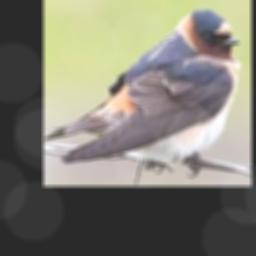Swallow: (44, 9, 241, 165)
